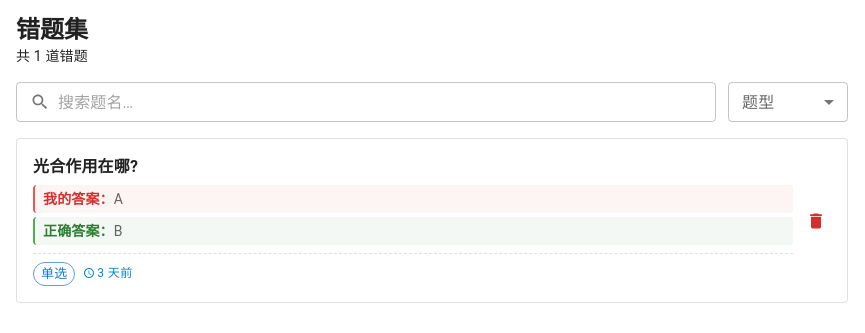
Scenario: WrongAnswersView › 筛选无结果时提示调整条件，而非「暂无错题」
Check: the text "光合作用在哪?" is shown, box [33,157,138,176]
Type "不存在的题" into the field with placeholder "搜索题名…". click: (387, 102)
box: [58,82,716,122]
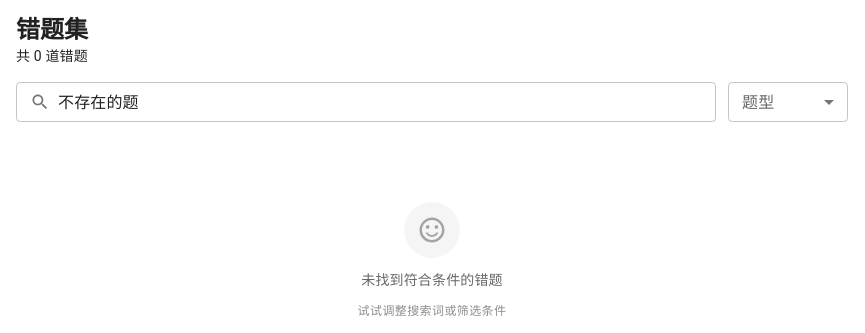
Check: the text "未找到符合条件的错题" is shown, box [361,270,503,290]
